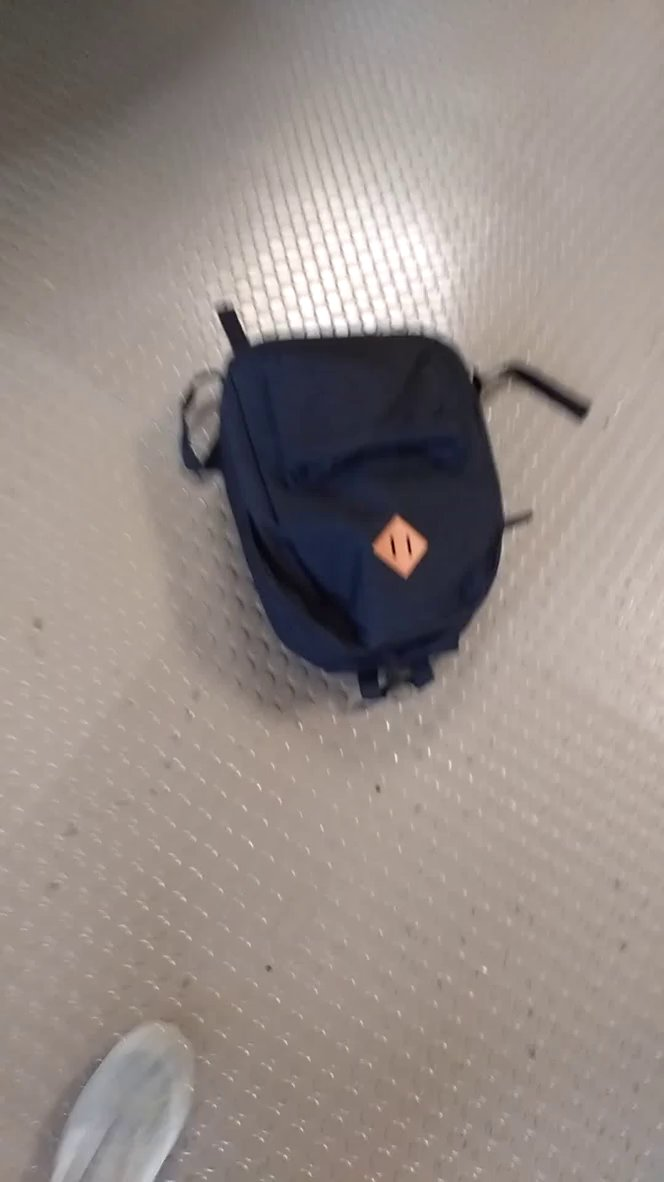bag: (169, 275, 610, 725)
